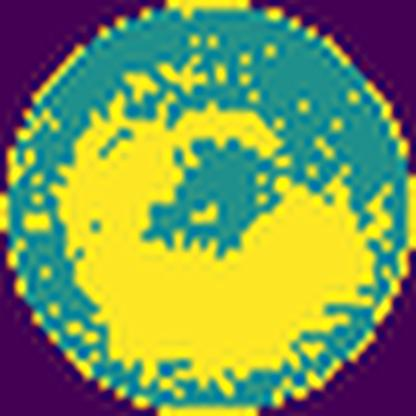Donut: (55, 46, 396, 398)
